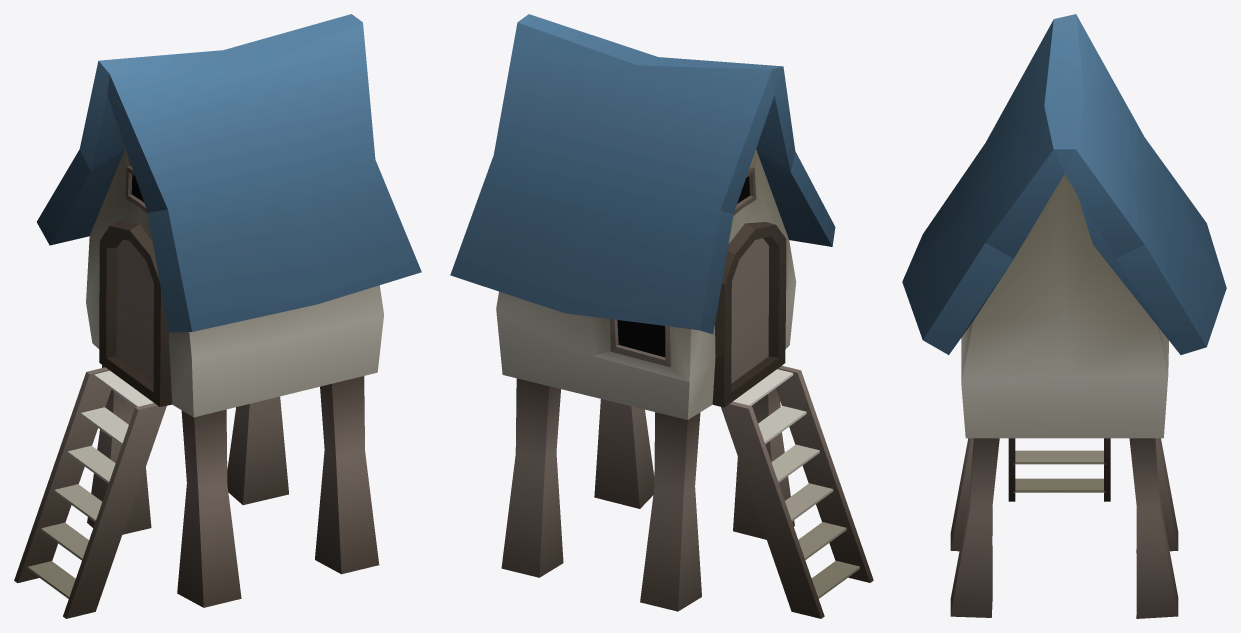
The model's file is house04_mdl.FBX.
The picture shows the model from 3 angles, left to right: view 1: azimuth 30°, elevation 25°; view 2: azimuth 150°, elevation 25°; view 3: azimuth 270°, elevation 25°; orthographic projection. The views are drawn at different scales.
Parts seen in each view (by area): view 1: house004; view 2: house004; view 3: house004.
Part boxes in pixels (x1=…): house004: x1=14, y1=14, x2=421, y2=618; house004: x1=450, y1=14, x2=873, y2=618; house004: x1=902, y1=14, x2=1226, y2=618.
Bounding box in the file's own units: 3.34 × 5.15 × 3.
1 material, 1 textured.
